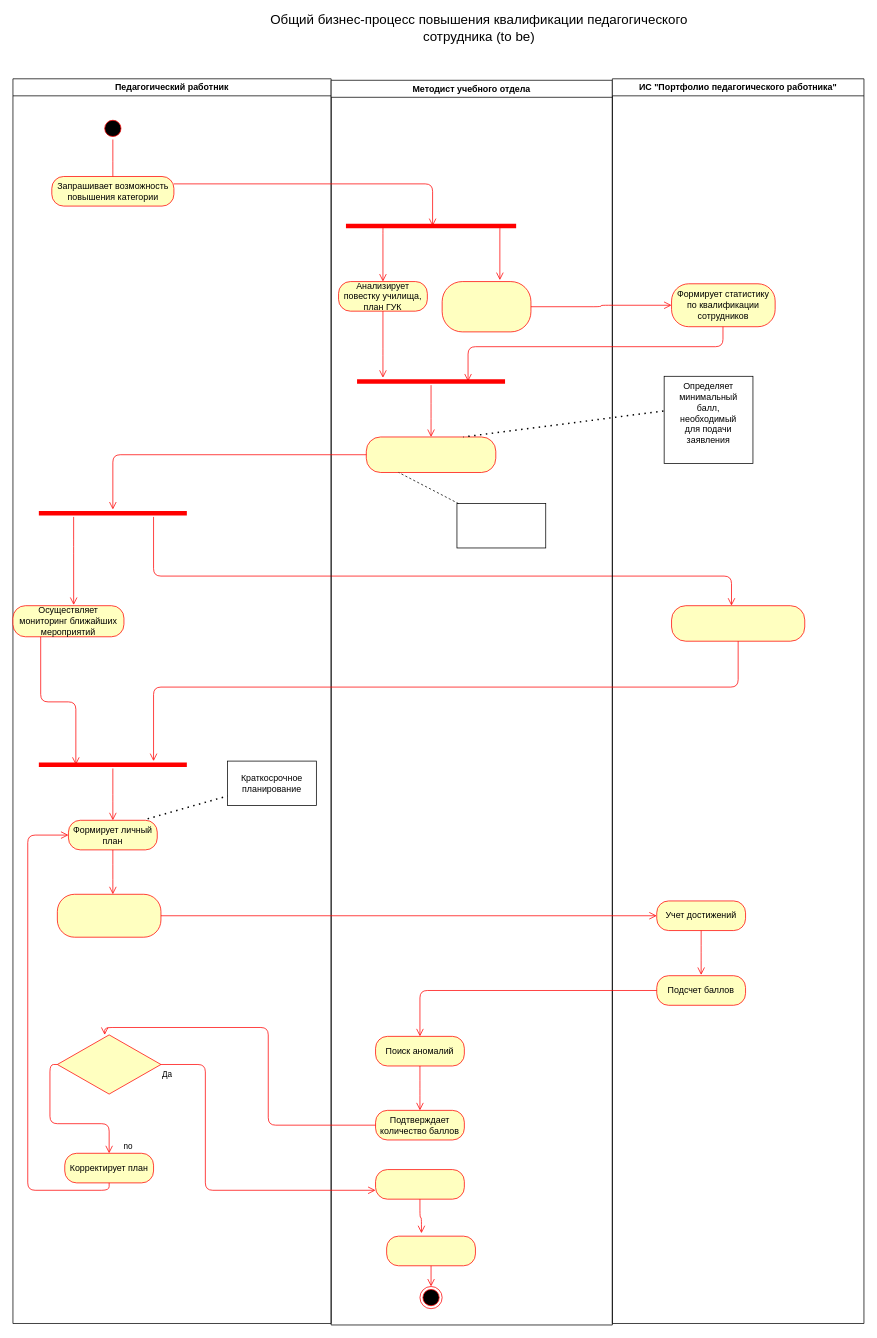
This 877x1338 diagram has some shape labels left out. The shapes that lost their labels are listed below. From the top down, each one's centre as x and y in pixels, then its label:
point (486, 306): Запрашивает состояние дел училища в части квалификации пед.работников
point (431, 454): Формирует индивидуальную траекторию получения категории
point (501, 525): Долгосрочное планирование
point (738, 623): Предлагает варианты выступлений
point (109, 915): Выполнение личного плана и внесение достижений
point (109, 1064): Набрана необходимая сумма баллов
point (419, 1184): Формирует экспертное заключение
point (430, 1250): Подтверждает выполненную работу
